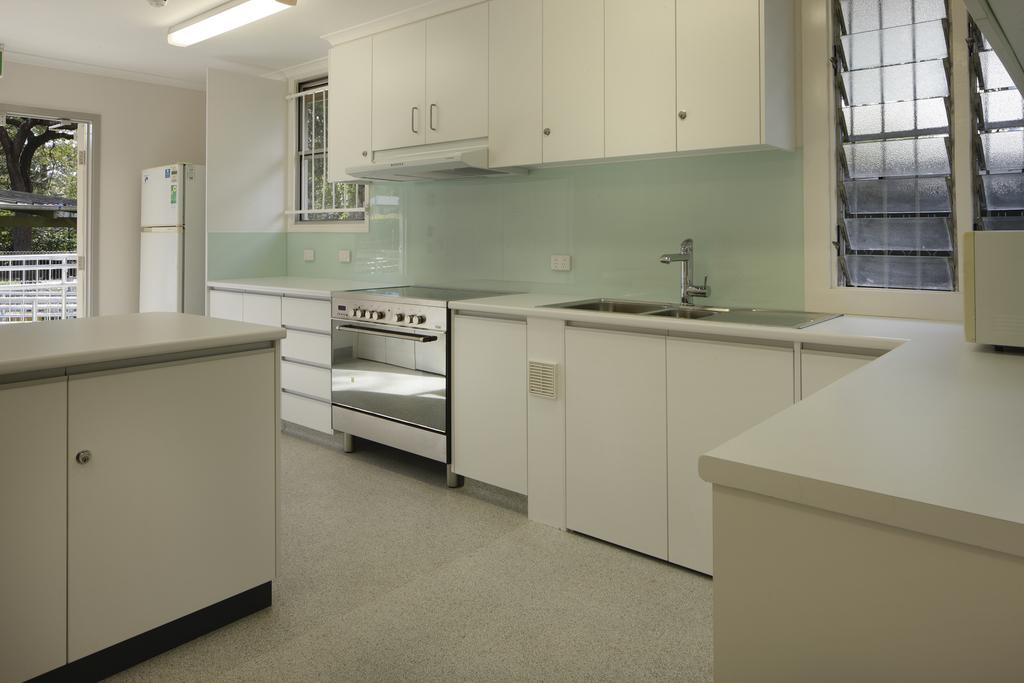cabinet_door: (71, 382, 265, 598), (574, 330, 660, 532), (2, 388, 58, 660), (678, 14, 760, 142), (460, 326, 526, 482), (609, 18, 671, 151), (488, 4, 538, 160), (550, 10, 604, 150), (426, 32, 484, 136), (376, 37, 424, 147), (334, 58, 364, 173), (278, 395, 328, 426), (286, 365, 336, 391), (283, 300, 331, 324), (290, 330, 330, 352)
handle: (342, 326, 434, 349), (286, 388, 334, 412), (284, 355, 334, 371), (402, 105, 422, 134), (76, 448, 98, 472), (284, 326, 335, 336), (428, 104, 442, 132), (545, 124, 555, 140), (676, 110, 687, 121)
